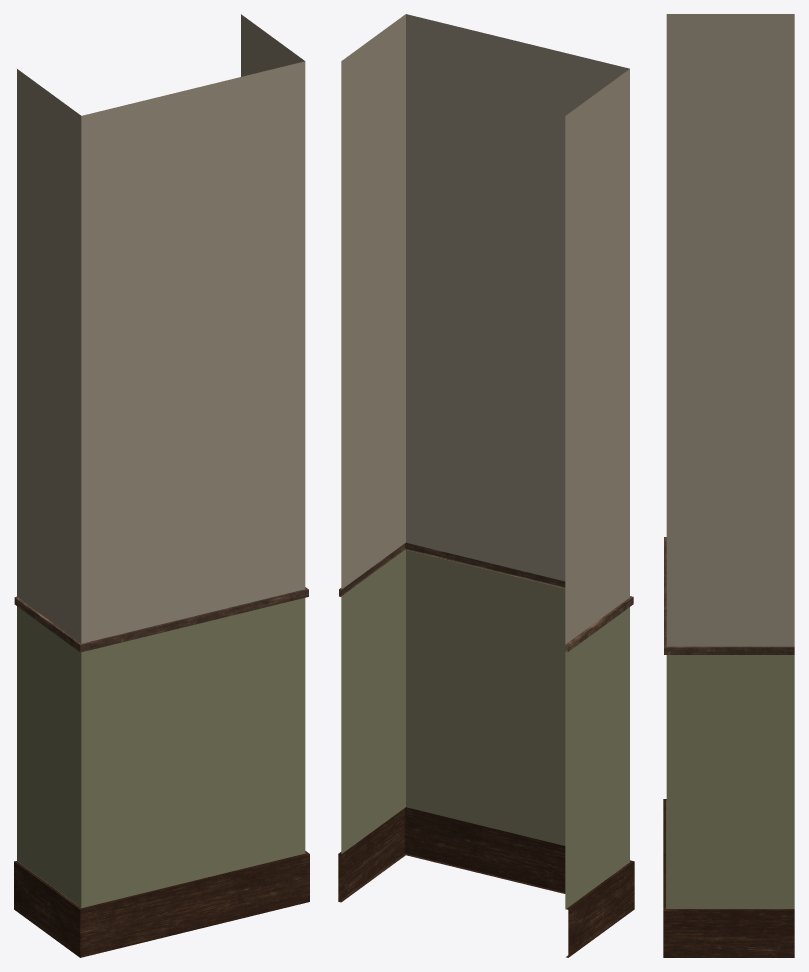
The model's file is Half_Pillar.fbx.
The picture shows the model from 3 angles, left to right: view 1: azimuth 30°, elevation 25°; view 2: azimuth 150°, elevation 25°; view 3: azimuth 270°, elevation 25°; orthographic projection.
Parts seen in each view (by area): view 1: Half_Pillar; view 2: Half_Pillar; view 3: Half_Pillar.
Part boxes in pixels (bbox=[...]): Half_Pillar: bbox=[14, 14, 309, 957]; Half_Pillar: bbox=[338, 14, 634, 957]; Half_Pillar: bbox=[663, 14, 794, 957].
Bounding box in the file's own units: 100 × 350 × 50.
